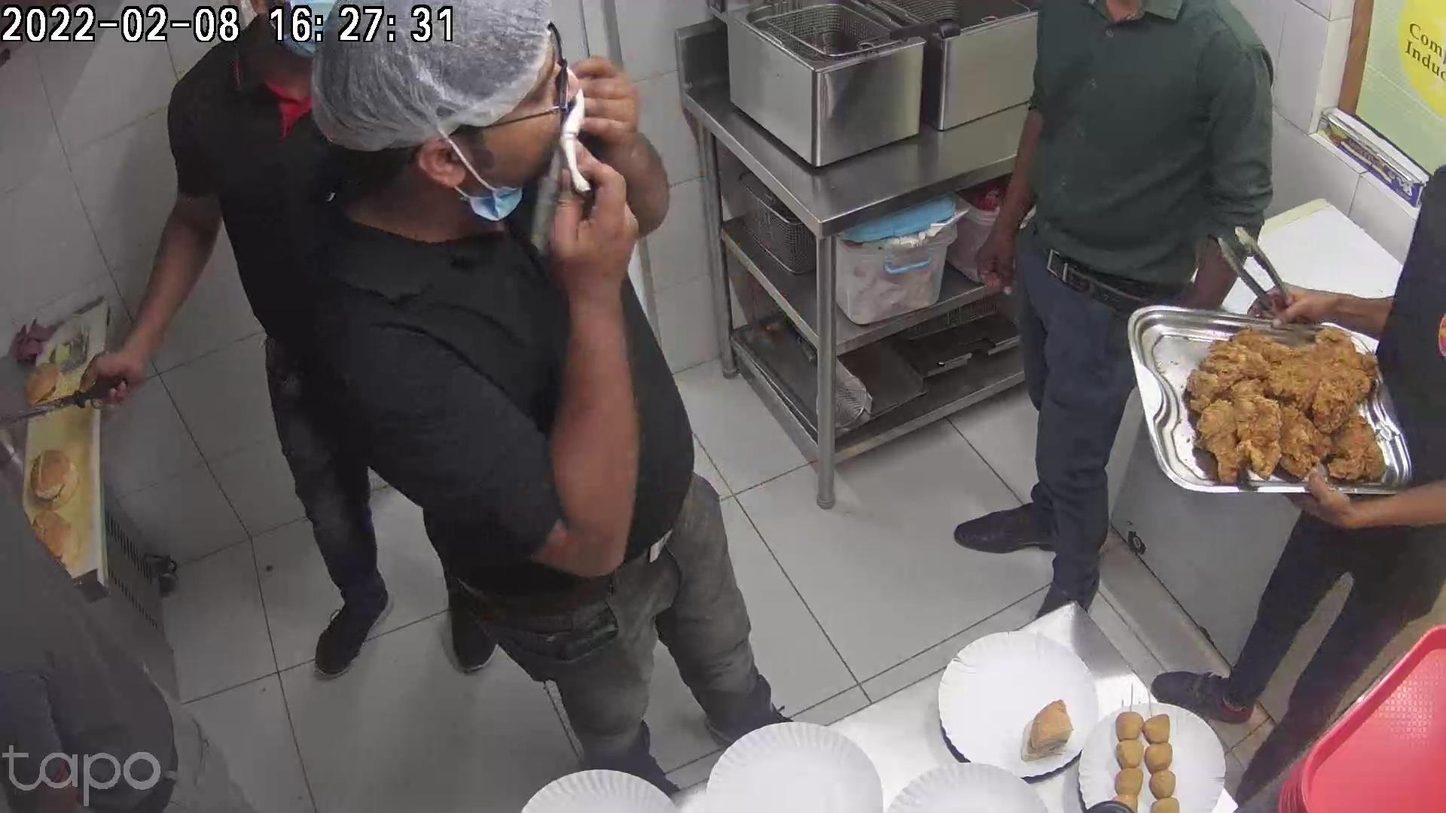no_gloves: (558, 172, 637, 322)
